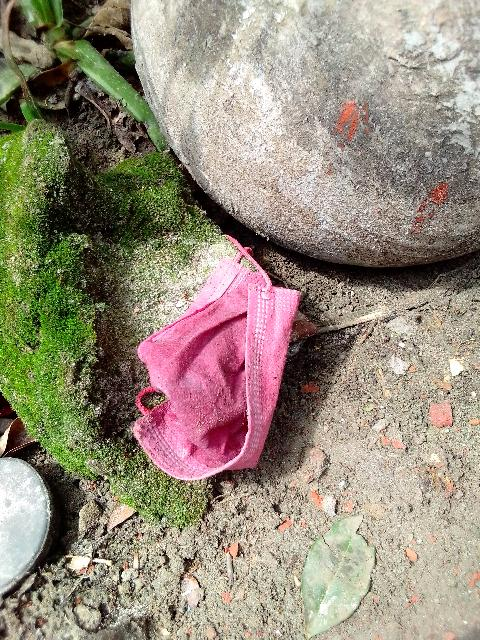mask: (140, 267, 296, 487)
